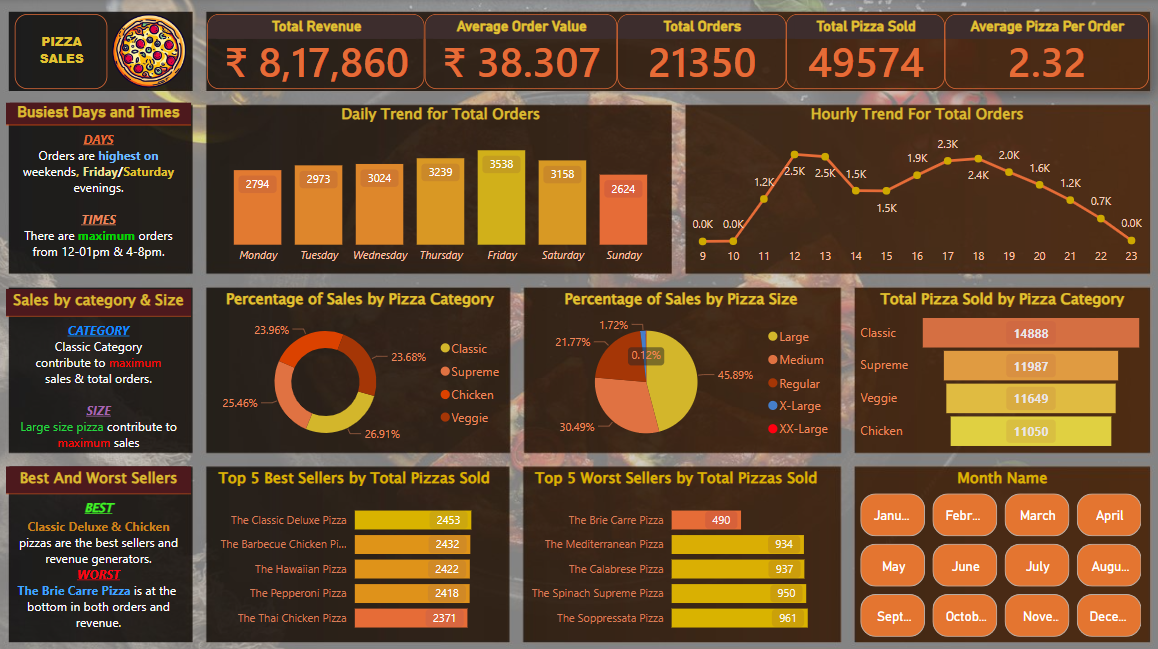

Layout of this report page (visuals, bound fields, positions):
{"tool":"powerbi","page":{"name":"Page 1","canvas":[1280,720],"ordinal":0},"visuals":[{"type":"card","title":"Total Revenue","fields":{"Values":["pizza_sales.Sum_of_Total_price"]},"box":[231.9,16.5,238.8,82.3],"z":0},{"type":"card","title":"Total Orders","fields":{"Values":["pizza_sales.Count_od_orderid"]},"box":[682,16.5,185.2,82.3],"z":1000},{"type":"card","title":"Average Order Value","fields":{"Values":["pizza_sales.Avg_Order_Value"]},"box":[470.7,16.5,211.3,82.3],"z":2000},{"type":"card","title":"Total Pizza Sold","fields":{"Values":["pizza_sales.Sum_of_quantity"]},"box":[867.2,16.5,174.3,82.3],"z":3000},{"type":"card","title":"Average Pizza Per Order","fields":{"Values":["pizza_sales.Avg_pizza_per_order"]},"box":[1041.5,16.5,223.7,82.3],"z":4000},{"type":"textbox","box":[20.6,16.5,101.5,82.3],"z":5000},{"type":"image","box":[122.1,11,91.9,91.9],"z":6000},{"type":"columnChart","title":"Daily Trend for Total Orders","fields":{"Category":["pizza_sales.order_day"],"Y":["pizza_sales.Sum_of_total_orders"]},"box":[231.5,114.4,512.7,186],"z":7000},{"type":"lineChart","title":"Hourly Trend For Total Orders","fields":{"Category":["pizza_sales.NewHourColumn"],"Y":["pizza_sales.Sum_of_total_orders"]},"box":[757.5,113.9,507.7,186.6],"z":8000},{"type":"textbox","title":"Busiest Days and Times","box":[11,113.9,203.1,185.2],"z":9000},{"type":"donutChart","title":"Percentage of Sales by Pizza Category","fields":{"Category":["pizza_sales.pizza_category"],"Y":["pizza_sales.Sum_of_Total_price"]},"box":[231.9,317,334.8,182.5],"z":10000},{"type":"pieChart","title":"Percentage of Sales by Pizza Size","fields":{"Category":["pizza_sales.pizza_size"],"Y":["pizza_sales.Sum_of_Total_price"]},"box":[576.3,317,351.3,182.5],"z":11000},{"type":"funnel","title":"Total Pizza Sold by Pizza Category","fields":{"Y":["Sum(pizza_sales.quantity)"],"Category":["pizza_sales.pizza_category"]},"box":[944.1,317,321.1,182.5],"z":12000},{"type":"textbox","title":"Sales by category & Size","box":[11,318.4,203.1,182.5],"z":13000},{"type":"clusteredBarChart","title":"Top 5 Best Sellers by Total Pizzas Sold","fields":{"Category":["pizza_sales.pizza_name"],"Y":["Sum(pizza_sales.quantity)"]},"box":[231.9,513.2,334.8,193.5],"z":13001},{"type":"clusteredBarChart","title":"Top 5 Worst Sellers by Total Pizzas Sold","fields":{"Category":["pizza_sales.pizza_name"],"Y":["Sum(pizza_sales.quantity)"]},"box":[577.7,513.2,349.9,193.5],"z":13002},{"type":"textbox","title":"Best And Worst Sellers","box":[11,513.2,203.1,193.5],"z":13003},{"type":"advancedSlicerVisual","title":"Month Name","fields":{"Values":["pizza_sales.Month_name"]},"box":[944.1,513.2,321.1,192.1],"z":13004}]}

Visuals, with their boxes in screenshot pixels (x1, y1, x2, y2), scaled from the page's 1280x720 canvas onto the 1158x649 screenshot:
"Total Revenue" card: {"left": 210, "top": 15, "right": 426, "bottom": 89}
"Total Orders" card: {"left": 617, "top": 15, "right": 785, "bottom": 89}
"Average Order Value" card: {"left": 426, "top": 15, "right": 617, "bottom": 89}
"Total Pizza Sold" card: {"left": 785, "top": 15, "right": 942, "bottom": 89}
"Average Pizza Per Order" card: {"left": 942, "top": 15, "right": 1145, "bottom": 89}
textbox: {"left": 19, "top": 15, "right": 110, "bottom": 89}
image: {"left": 110, "top": 10, "right": 194, "bottom": 93}
"Daily Trend for Total Orders" columnChart: {"left": 209, "top": 103, "right": 673, "bottom": 271}
"Hourly Trend For Total Orders" lineChart: {"left": 685, "top": 103, "right": 1145, "bottom": 271}
"Busiest Days and Times" textbox: {"left": 10, "top": 103, "right": 194, "bottom": 270}
"Percentage of Sales by Pizza Category" donutChart: {"left": 210, "top": 286, "right": 513, "bottom": 450}
"Percentage of Sales by Pizza Size" pieChart: {"left": 521, "top": 286, "right": 839, "bottom": 450}
"Total Pizza Sold by Pizza Category" funnel: {"left": 854, "top": 286, "right": 1145, "bottom": 450}
"Sales by category & Size" textbox: {"left": 10, "top": 287, "right": 194, "bottom": 452}
"Top 5 Best Sellers by Total Pizzas Sold" clusteredBarChart: {"left": 210, "top": 463, "right": 513, "bottom": 637}
"Top 5 Worst Sellers by Total Pizzas Sold" clusteredBarChart: {"left": 523, "top": 463, "right": 839, "bottom": 637}
"Best And Worst Sellers" textbox: {"left": 10, "top": 463, "right": 194, "bottom": 637}
"Month Name" advancedSlicerVisual: {"left": 854, "top": 463, "right": 1145, "bottom": 636}
